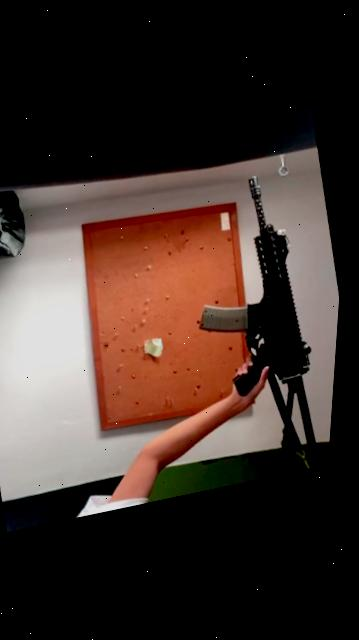rifle: (162, 159, 351, 487)
